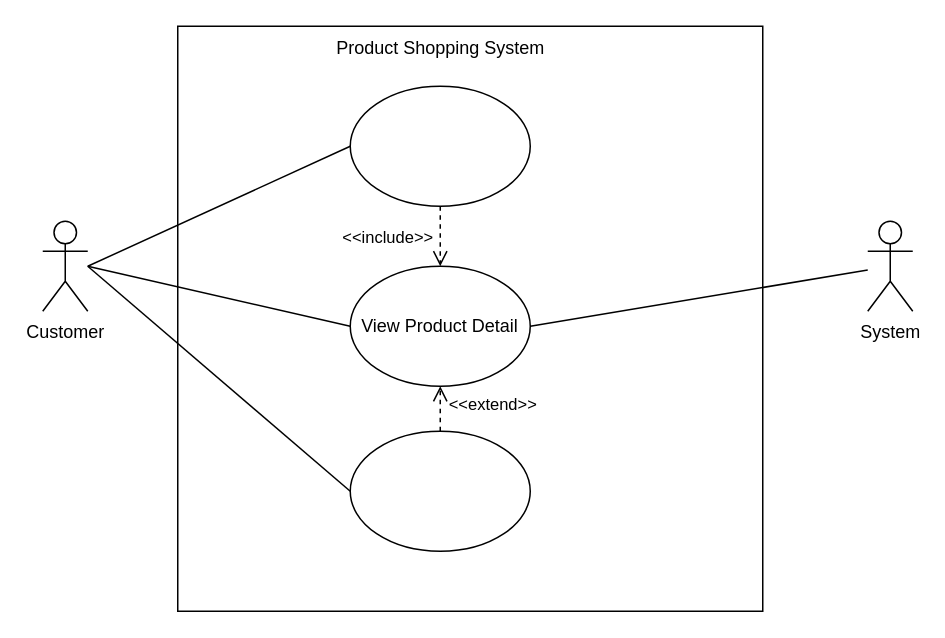
Some shapes in this 945 by 638 pixel diagram are drawn without their labels. Here are the shapes that lost their labels. From the top down, the centre of each, then its label:
At pixel 439 145: "Search Product".
At pixel 439 490: "Add to Cart".
